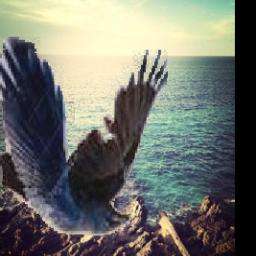Crow: (0, 35, 168, 235)
